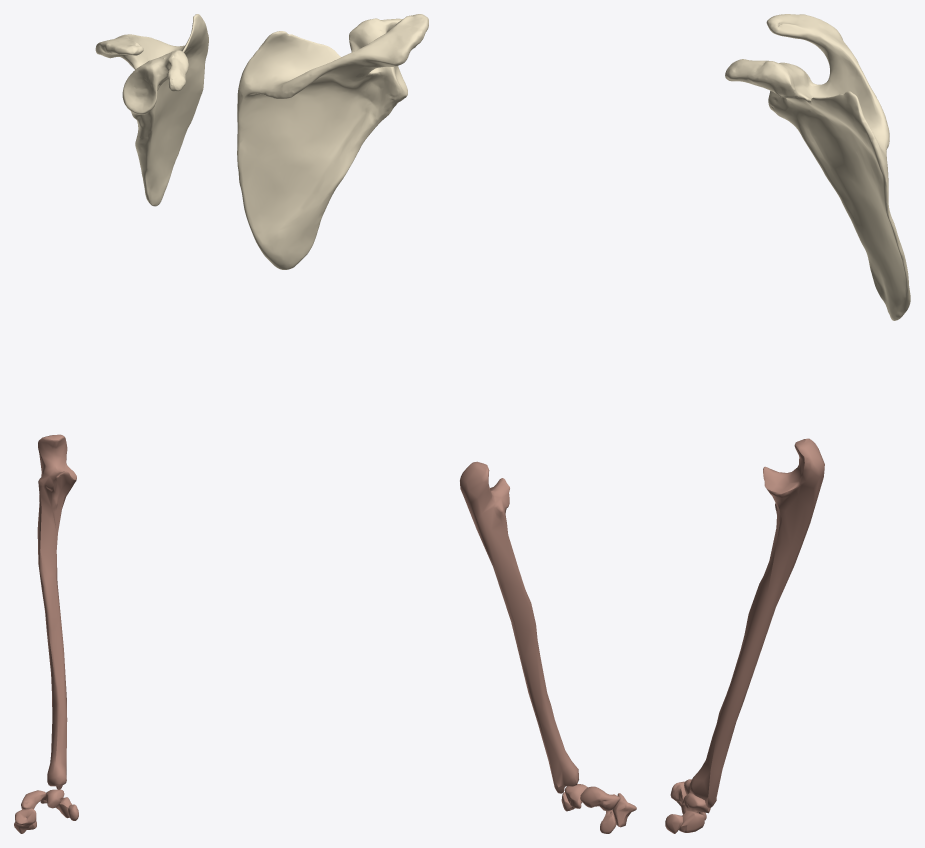
File: right-arm-1.glb
3 renders of one model, left to right at view 1: azimuth 30°, elevation 25°; view 2: azimuth 150°, elevation 25°; view 3: azimuth 270°, elevation 25°, orthographic. The views are drawn at different scales.
Visible parts, largest first — view 1: FJ3384, FJ3391, FJ3388; view 2: FJ3384, FJ3391; view 3: FJ3384, FJ3391.
Boxes of the visible parts, x1=… form: FJ3384: x1=95, y1=14, x2=208, y2=206; FJ3391: x1=37, y1=434, x2=76, y2=789; FJ3388: x1=14, y1=808, x2=36, y2=833; FJ3384: x1=237, y1=14, x2=428, y2=269; FJ3391: x1=460, y1=461, x2=578, y2=793; FJ3384: x1=725, y1=14, x2=910, y2=320; FJ3391: x1=689, y1=438, x2=824, y2=807.
Size of the model in its own units: 0.2247 by 0.567 by 0.1427.
